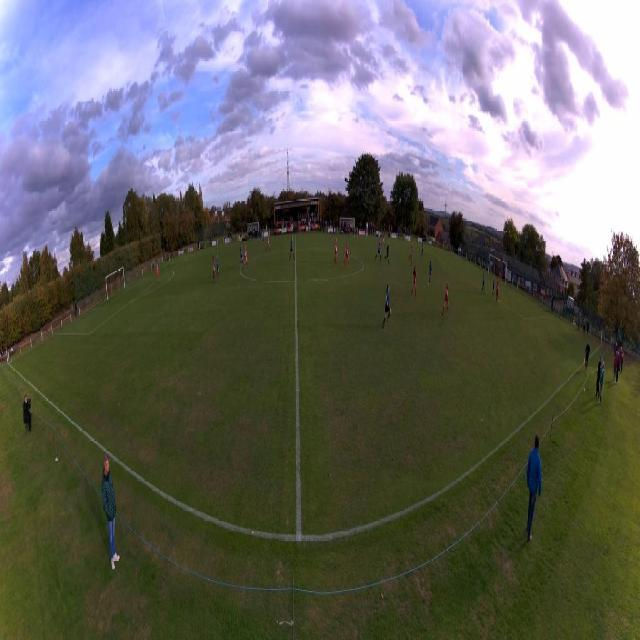ball: (498, 299, 499, 303)
player: (382, 283, 392, 329), (443, 281, 449, 318), (342, 242, 350, 268), (411, 266, 417, 297), (289, 236, 296, 262), (375, 240, 383, 261), (384, 242, 390, 266), (243, 244, 248, 268), (239, 244, 244, 268), (428, 260, 432, 288), (409, 245, 414, 266), (334, 238, 338, 264), (216, 254, 220, 278), (481, 271, 485, 295), (492, 276, 496, 297), (212, 256, 215, 283), (266, 234, 270, 253), (420, 243, 424, 259), (496, 281, 499, 302), (156, 264, 159, 283), (498, 272, 502, 286), (382, 231, 385, 248), (262, 228, 265, 244)
